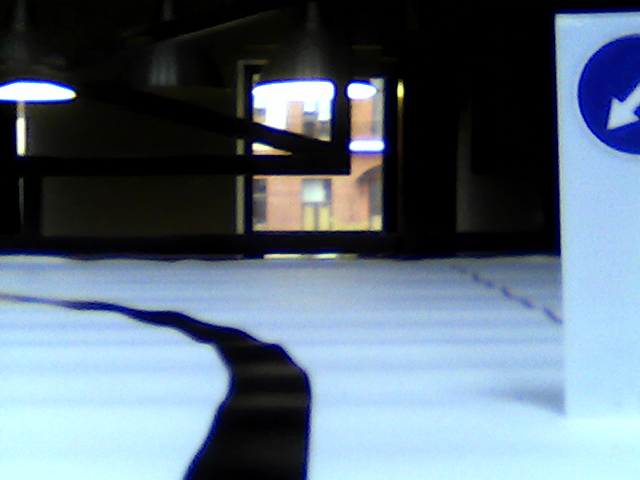prep: (573, 28, 640, 159)
